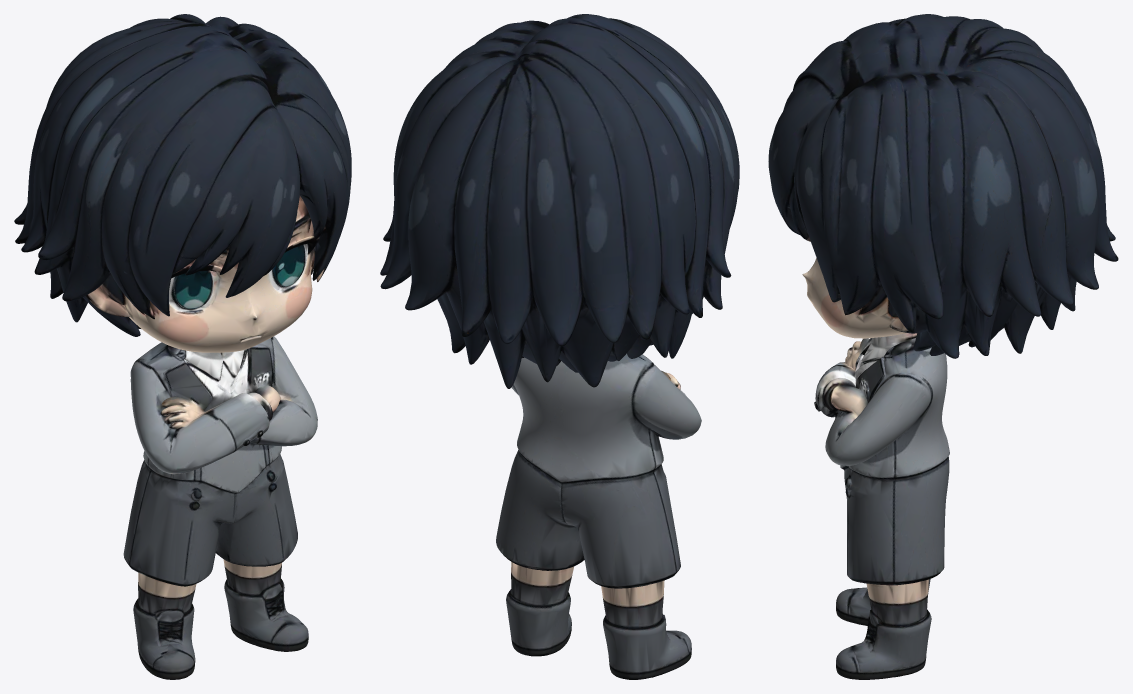
Rendered from hiro.glb.
3 views of the same model, side by side, from view 1: azimuth 30°, elevation 25°; view 2: azimuth 150°, elevation 25°; view 3: azimuth 270°, elevation 25° (orthographic). The views are drawn at different scales.
Visible parts, largest first — view 1: node_0; view 2: node_0; view 3: node_0.
Part boxes in pixels (bbox=[...]): node_0: bbox=[14, 14, 351, 679]; node_0: bbox=[380, 14, 739, 679]; node_0: bbox=[768, 14, 1118, 679].
Size of the model in its own units: 0.5934 by 1.12 by 0.5787.
1 material, 1 textured.
